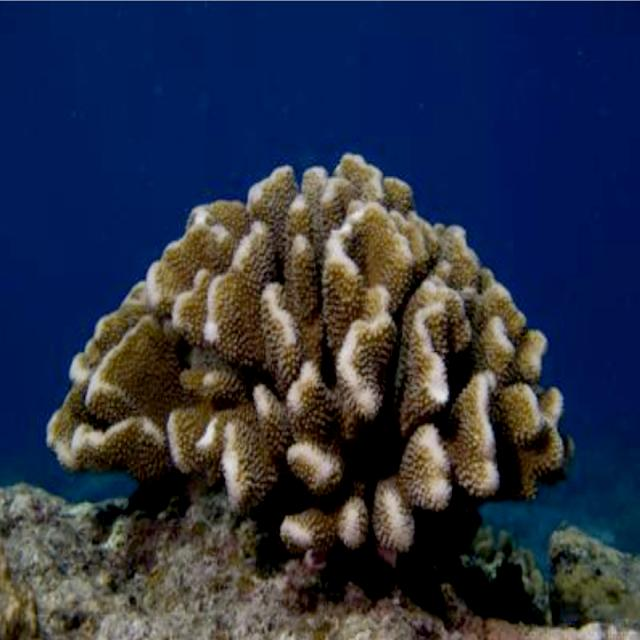Coral: (45, 150, 577, 554)
